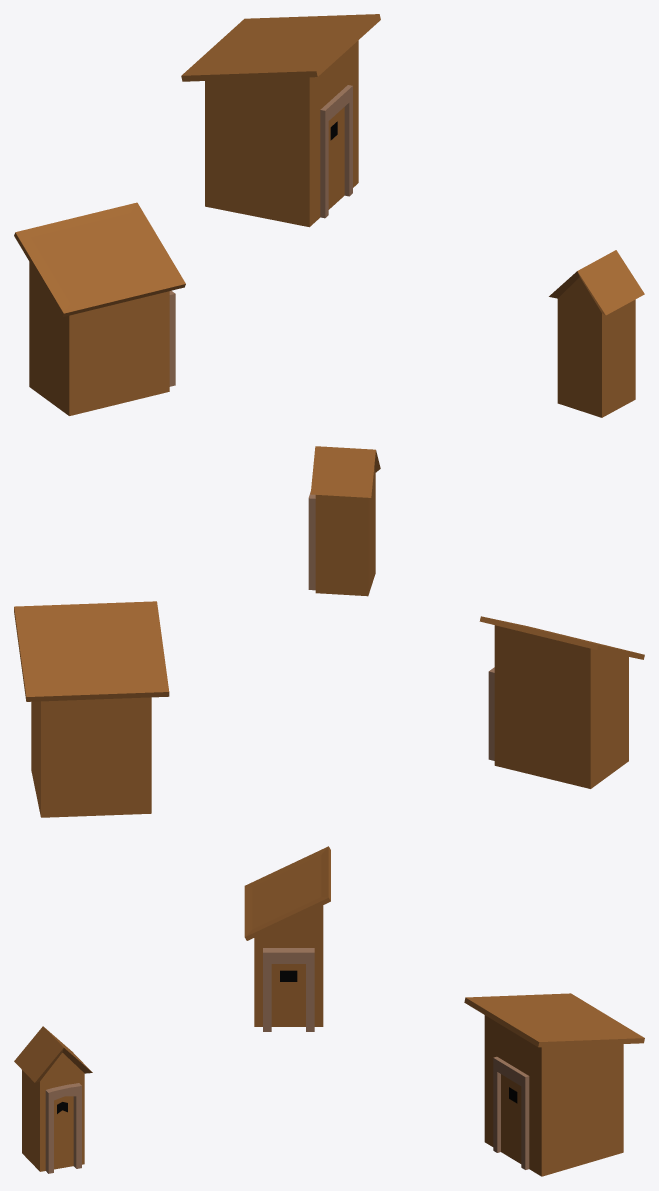
File: OutHouses.glb
The picture shows the model from 3 angles, top to bottom: view 1: azimuth 30°, elevation 25°; view 2: azimuth 150°, elevation 25°; view 3: azimuth 270°, elevation 25°; orthographic projection. The views are drawn at different scales.
Parts seen in each view (by area): view 1: Out House 1, Out House 3, Out House 2; view 2: Out House 1, Out House 3, Out House 2; view 3: Out House 1, Out House 3, Out House 2.
Part boxes in pixels (left/top/right/bottom): Out House 1: left=181, top=14, right=380, bottom=227; Out House 3: left=14, top=202, right=185, bottom=415; Out House 2: left=549, top=250, right=644, bottom=417; Out House 1: left=14, top=601, right=169, bottom=817; Out House 3: left=479, top=616, right=644, bottom=788; Out House 2: left=308, top=446, right=380, bottom=596; Out House 1: left=464, top=993, right=644, bottom=1176; Out House 3: left=244, top=846, right=330, bottom=1031; Out House 2: left=14, top=1026, right=92, bottom=1173.
Bounding box in the file's own units: 9.72 × 3.17 × 12.63.
